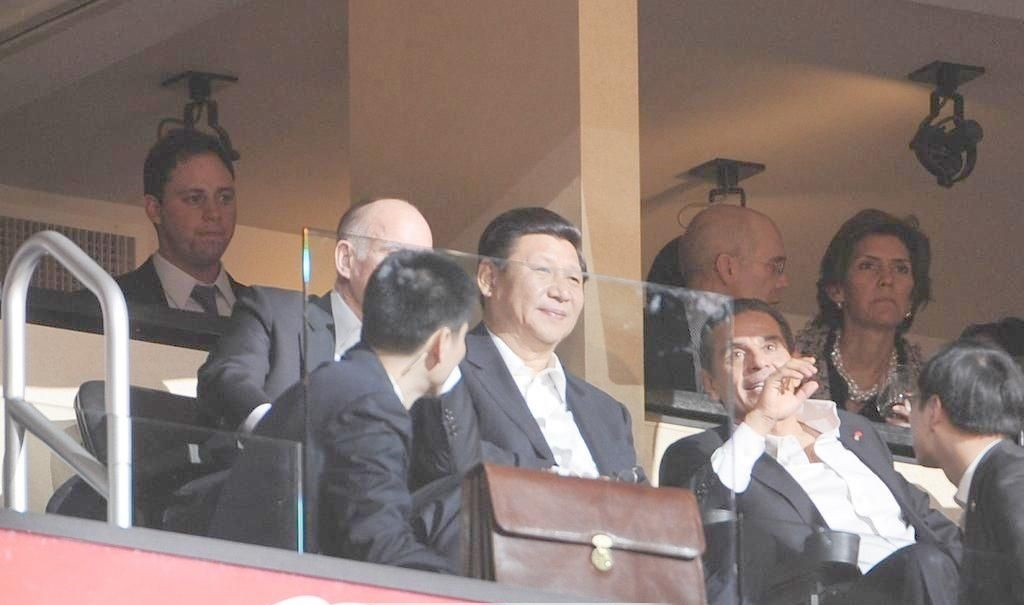face: (500, 237, 586, 348), (155, 158, 246, 258), (718, 316, 800, 412), (357, 208, 431, 310), (847, 237, 919, 327), (716, 229, 790, 312)
